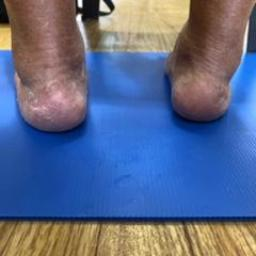Back View -Both Feet-: (2, 3, 252, 138)
